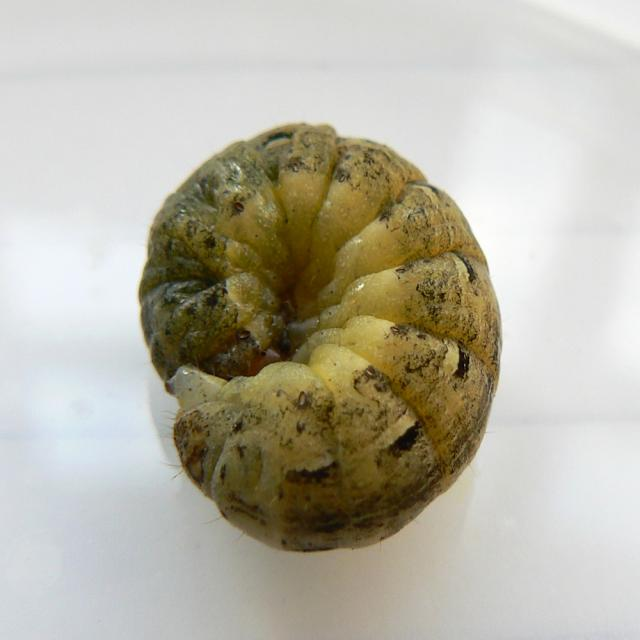worm: (138, 121, 503, 553)
